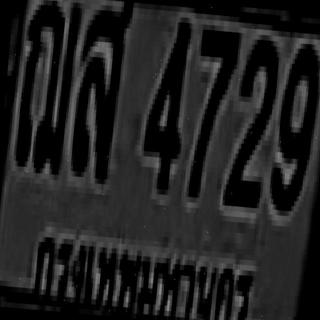A12: (11, 0, 80, 176)
A40: (68, 0, 134, 182)
N02: (224, 35, 280, 206)
N04: (139, 11, 191, 192)
N07: (187, 26, 238, 196)
N09: (268, 40, 320, 214)
P04: (26, 225, 257, 320)
